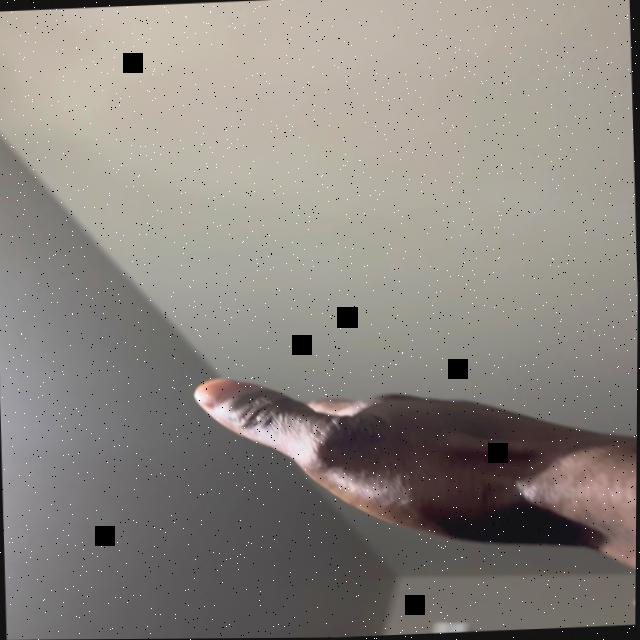Paper: (190, 362, 603, 563)
